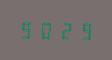nine: (18, 19, 35, 39), (72, 20, 89, 40)
two: (54, 19, 71, 40)
zero: (36, 19, 53, 39)
